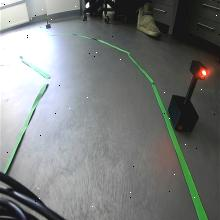red: (189, 59, 209, 80)
